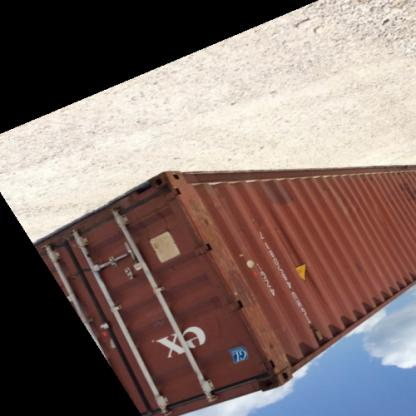Damage: (227, 288, 287, 380), (185, 194, 239, 286)
